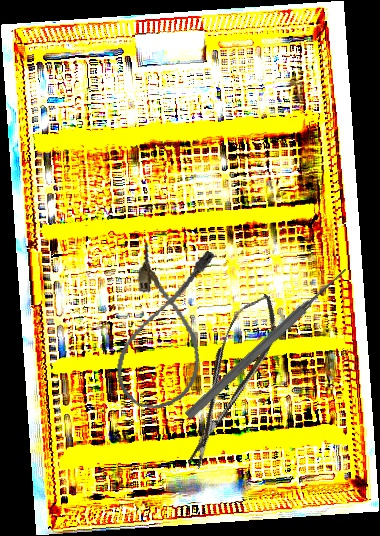Cannula: (110, 238, 221, 416)
Micro Scissor: (167, 286, 291, 474)
Pusher: (183, 264, 351, 422)
